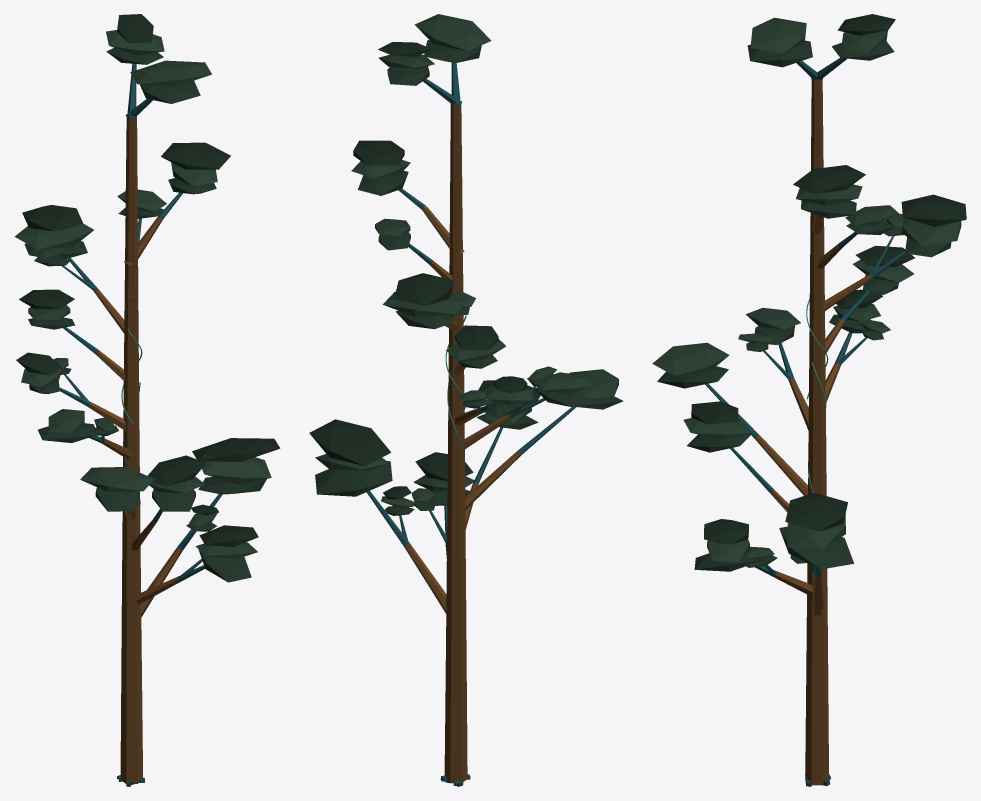
The model's file is swamp_toweringTree.glb.
The picture shows the model from 3 angles, left to right: view 1: azimuth 30°, elevation 25°; view 2: azimuth 150°, elevation 25°; view 3: azimuth 270°, elevation 25°; orthographic projection. The views are drawn at different scales.
Visible parts, largest first — view 1: n1, n3, n7, n33, n9, n163, n149, n75, n31, n11, n123, n125 (+22 smaller); view 2: n1, n33, n3, n5, n29, n163, n125, n11, n7, n9, n149, n123 (+17 smaller); view 3: n1, n7, n33, n75, n3, n125, n163, n149, n29, n9, n5, n31 (+19 smaller).
Boxes of the visible parts, <box> form: n1: <box>120,669,142,783</box>; n3: <box>121,558,141,672</box>; n7: <box>123,337,139,450</box>; n33: <box>192,438,280,461</box>; n9: <box>124,226,138,339</box>; n163: <box>130,60,211,85</box>; n149: <box>161,142,230,169</box>; n75: <box>80,467,154,491</box>; n31: <box>202,457,271,484</box>; n11: <box>125,116,137,228</box>; n123: <box>14,223,93,249</box>; n125: <box>22,205,83,231</box>; n1: <box>444,666,467,783</box>; n33: <box>309,419,390,466</box>; n3: <box>445,554,466,670</box>; n5: <box>447,441,465,556</box>; n29: <box>315,461,392,496</box>; n163: <box>414,14,491,51</box>; n125: <box>394,273,453,305</box>; n11: <box>450,103,462,217</box>; n7: <box>448,328,464,443</box>; n9: <box>449,215,463,330</box>; n149: <box>353,140,404,165</box>; n123: <box>383,292,466,316</box>; n1: <box>805,664,828,785</box>; n7: <box>808,312,825,431</box>; n33: <box>785,492,847,531</box>; n75: <box>652,342,729,375</box>; n3: <box>806,563,827,667</box>; n125: <box>901,194,966,226</box>; n163: <box>750,17,806,53</box>; n149: <box>793,165,865,193</box>; n29: <box>779,526,853,569</box>; n9: <box>809,213,824,314</box>; n5: <box>808,429,826,495</box>; n31: <box>787,514,845,549</box>.
Size of the model in its own units: 36.67 by 101 by 37.13.
